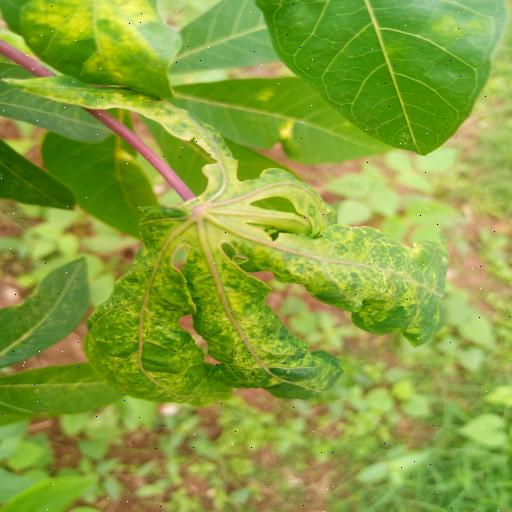Cassava_Mosaic: (78, 159, 449, 412)
